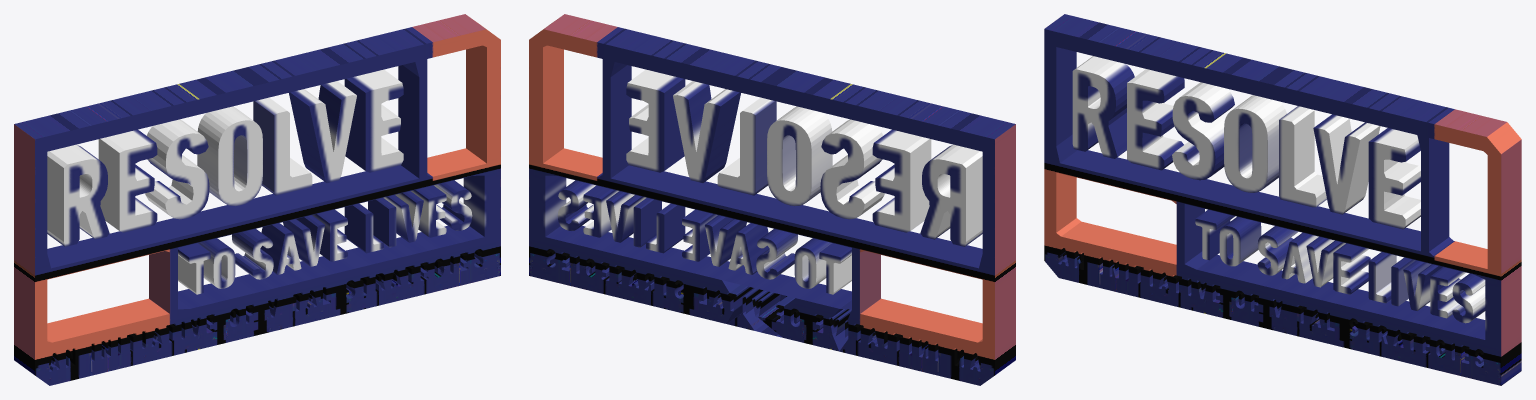
Rendered from resolve-to-save-lives.glb.
3 renders of one model, left to right at view 1: azimuth 30°, elevation 25°; view 2: azimuth 150°, elevation 25°; view 3: azimuth 330°, elevation 25°, orthographic.
Parts seen in each view (by area): view 1: Curve; view 2: Curve; view 3: Curve.
Part boxes in pixels (x1,y1,x2,y2): Curve: (14, 14, 500, 385); Curve: (529, 14, 1015, 385); Curve: (1044, 14, 1521, 385).
Bounding box in the file's own units: 0.0643 × 0.033 × 0.005.
1 material, 1 textured.
